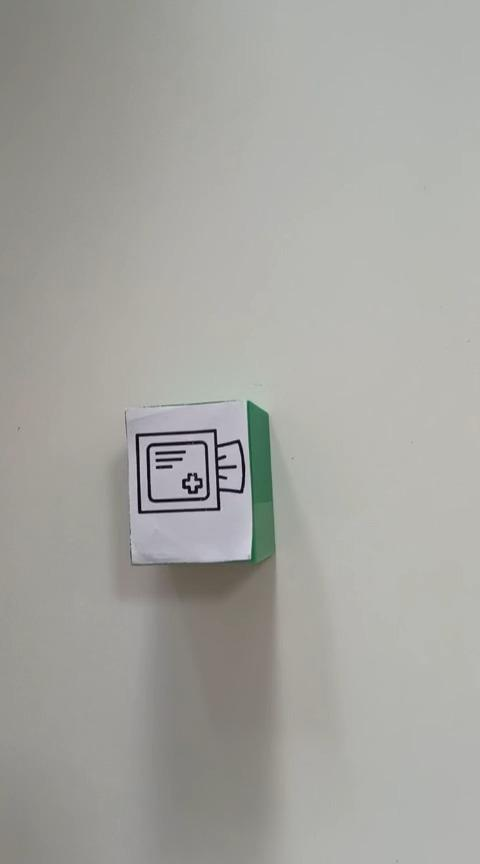Gauze: (123, 398, 275, 566)
